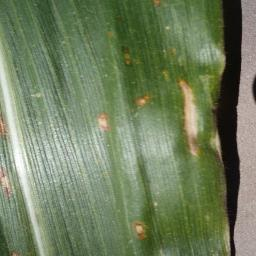Gray_Leaf_Spot: (206, 70, 236, 256), (176, 78, 205, 158), (0, 111, 10, 204), (88, 110, 112, 134), (131, 215, 150, 241), (131, 91, 156, 109), (121, 42, 133, 67), (163, 44, 179, 60), (159, 68, 173, 84), (6, 248, 28, 256), (151, 0, 167, 8)
